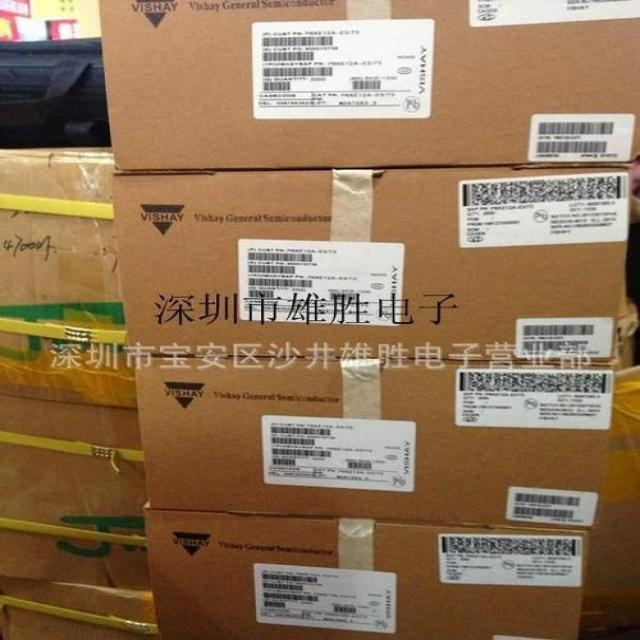box: (114, 164, 631, 363), (99, 0, 636, 173), (132, 351, 614, 531), (147, 506, 589, 637), (1, 146, 138, 410), (0, 390, 152, 592), (573, 363, 639, 636), (0, 576, 157, 636), (613, 245, 638, 369)
